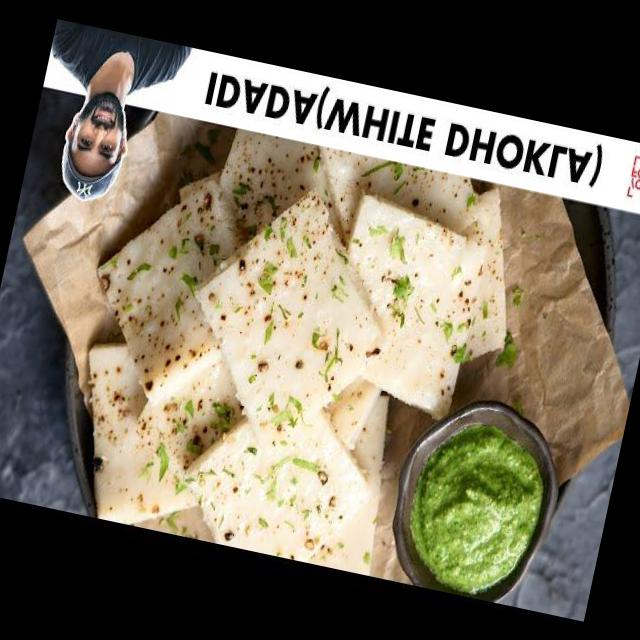dhokla: (53, 97, 528, 600)
